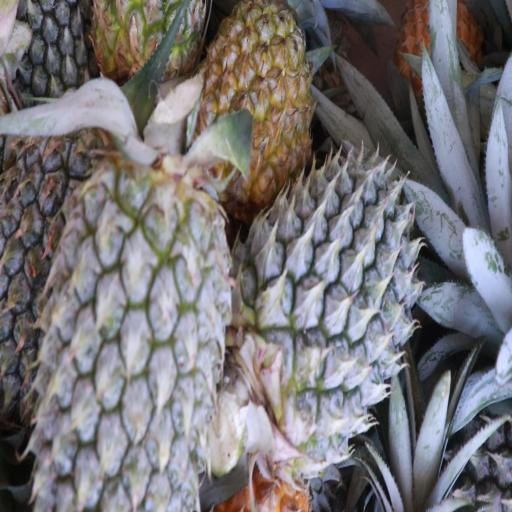Pineapple - v8 v1: (201, 0, 314, 185)
